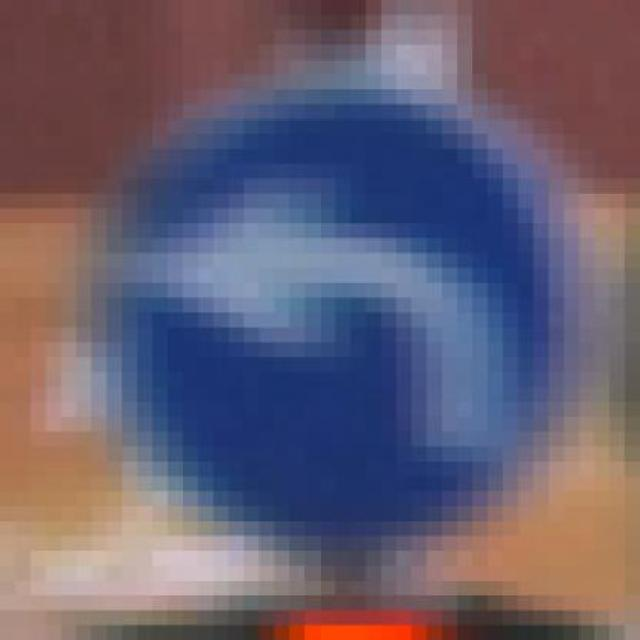Turn left ahead: (92, 74, 610, 566)
